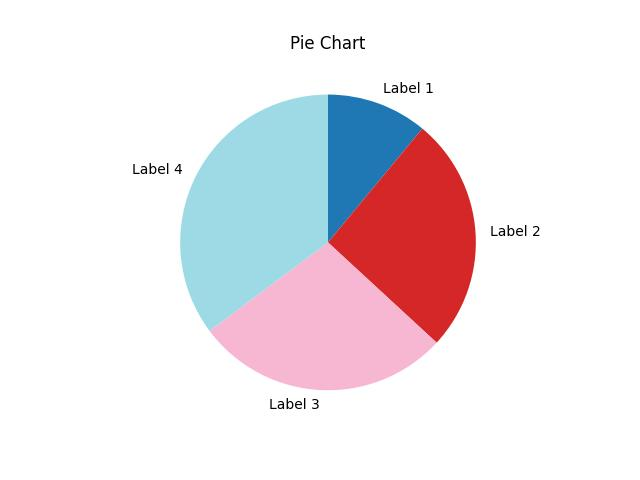sector: (179, 92, 328, 332), (207, 242, 436, 391), (329, 126, 477, 342), (329, 91, 424, 241)
